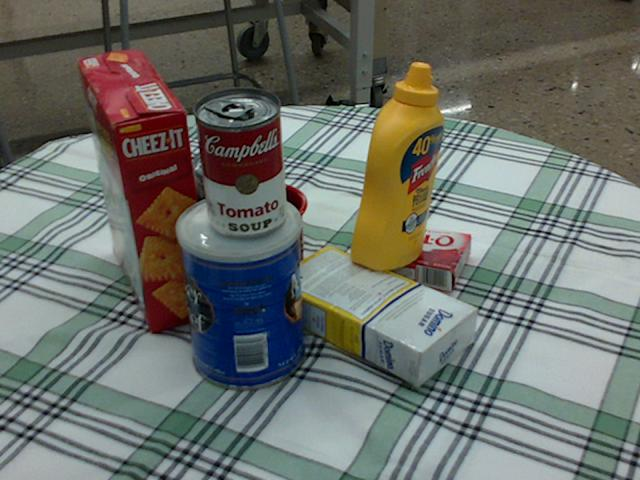cracker_box: (76, 52, 212, 330)
gelatin_box: (367, 221, 469, 293)
master_chef_can: (174, 191, 306, 390)
mug: (199, 180, 306, 290)
mustard_bottle: (350, 62, 443, 270)
potted_meat_can: (166, 161, 284, 251)
sugar_box: (268, 245, 479, 383)
tomato_soup_can: (192, 86, 284, 236)
tuna_fish_can: (192, 143, 273, 208)
